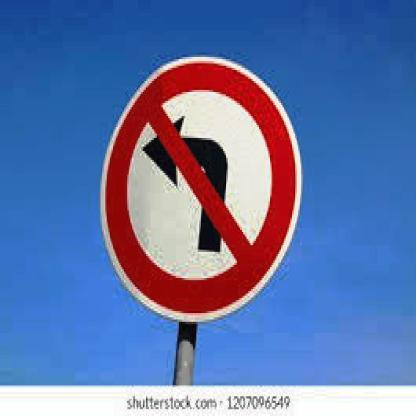No left turn: (101, 56, 298, 327)
